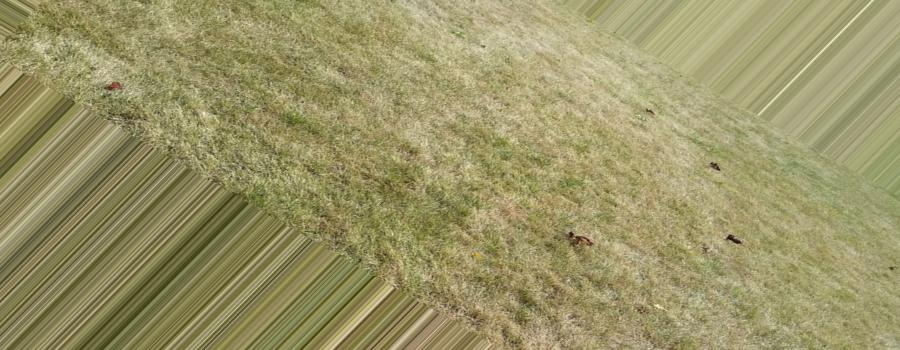patch: (392, 5, 590, 293), (168, 1, 331, 151), (616, 145, 729, 313), (750, 149, 843, 340), (612, 81, 682, 110)
